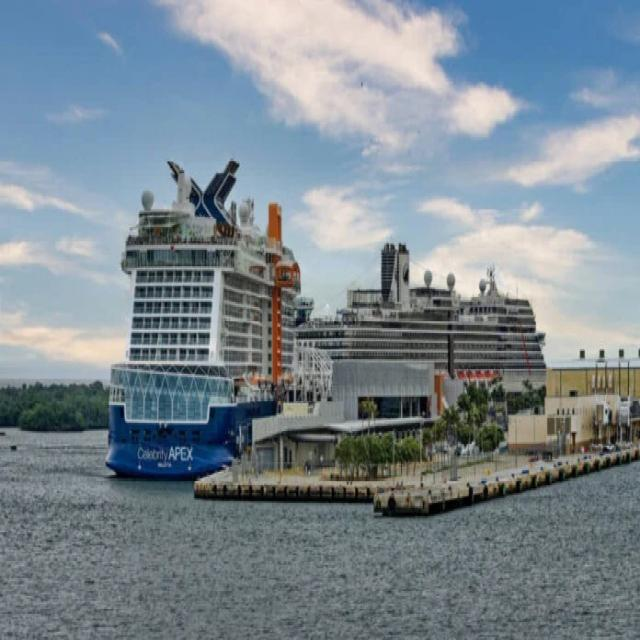PassengerShip: (77, 153, 482, 523)
